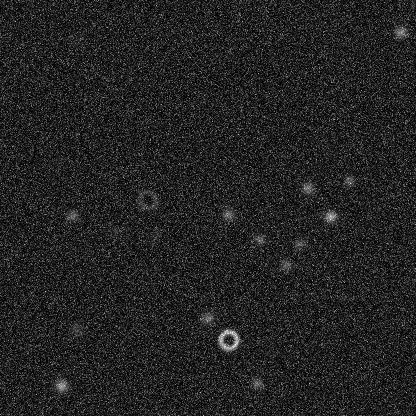Ring: (216, 327, 240, 351), (135, 187, 159, 211)
Spot: (64, 207, 80, 223), (69, 30, 85, 46), (68, 320, 84, 336), (199, 310, 215, 326), (147, 227, 163, 243), (53, 378, 69, 394), (392, 23, 408, 39), (299, 179, 315, 195), (277, 256, 293, 272), (248, 374, 264, 390), (220, 206, 236, 222), (108, 223, 124, 239), (292, 235, 308, 251), (251, 231, 267, 247), (341, 172, 357, 188), (322, 208, 338, 224)
